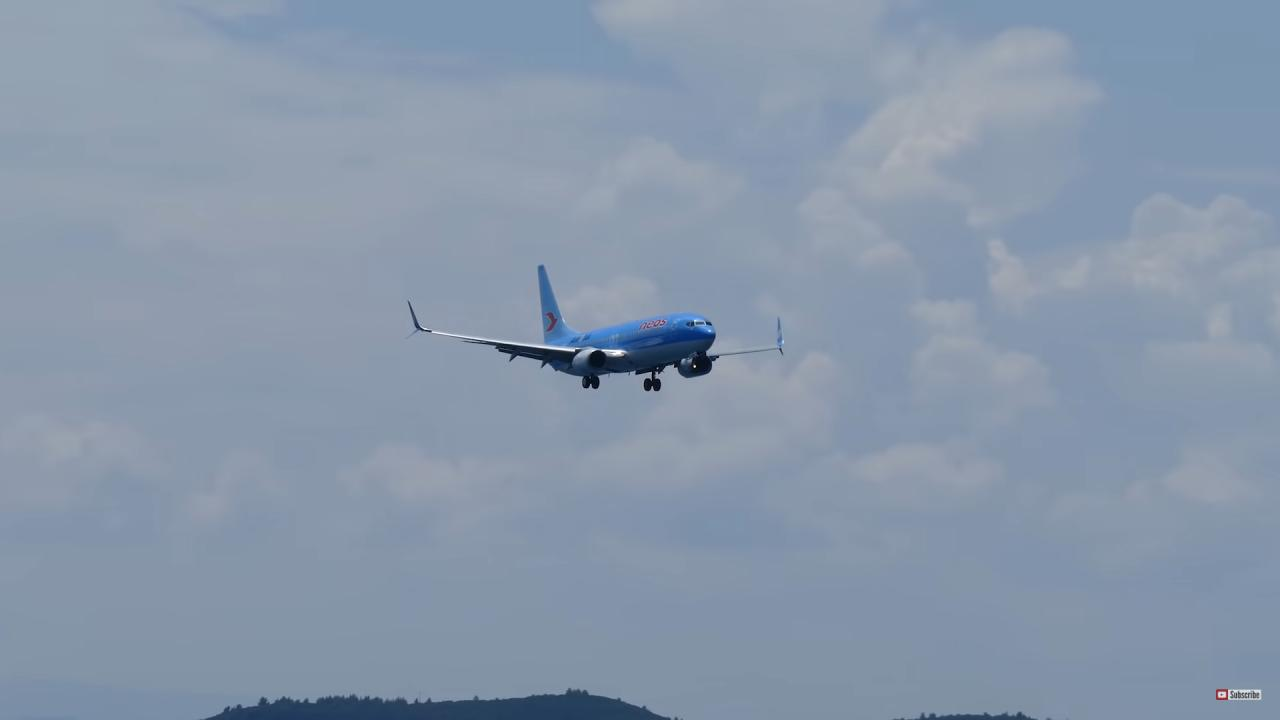Airplane: (389, 260, 799, 408)
